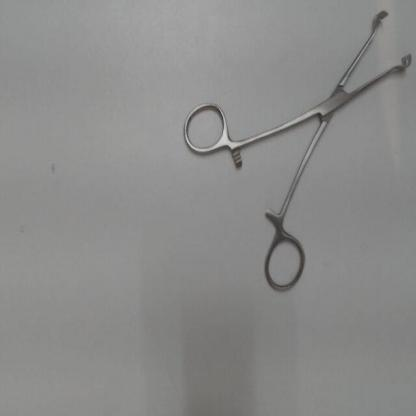Babcock Tissue Forceps: (178, 5, 414, 297)
